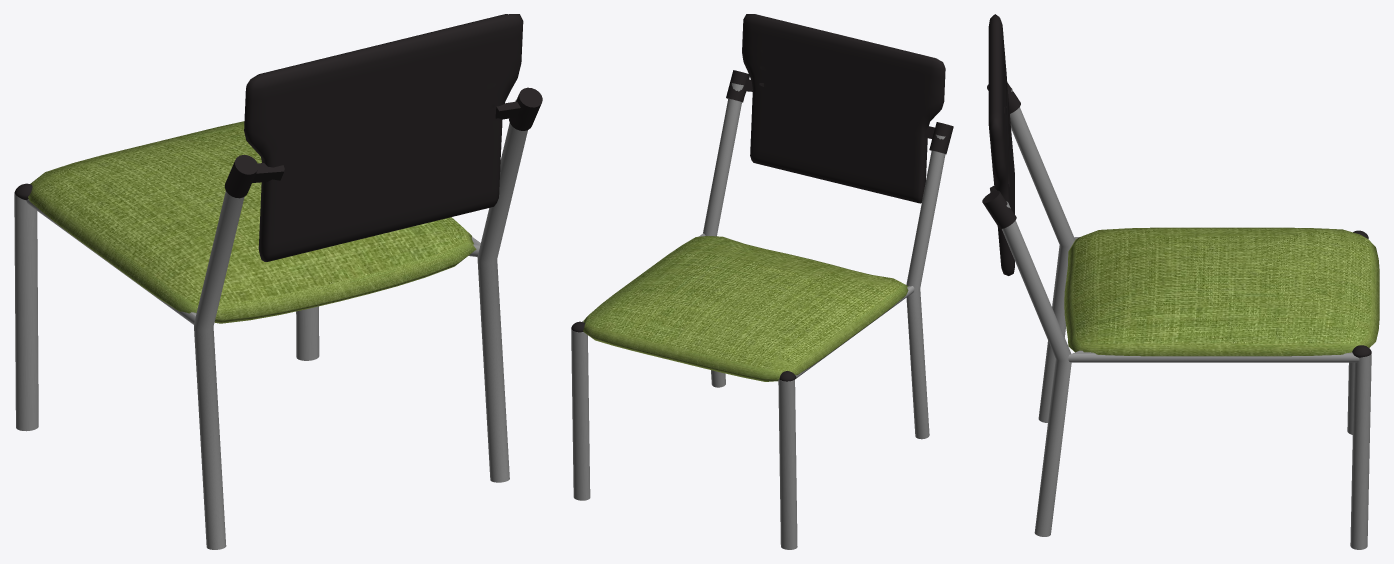
File: another_chair.FBX
The picture shows the model from 3 angles, left to right: view 1: azimuth 30°, elevation 25°; view 2: azimuth 150°, elevation 25°; view 3: azimuth 270°, elevation 25°; orthographic projection. The views are drawn at different scales.
Parts seen in each view (by area): view 1: Box002, Box001, Line002, Line003, Line005, Cylinder001, Cylinder002, Line004; view 2: Box001, Box002, Line002, Line005, Line004, Line003, Cylinder001, Cylinder002; view 3: Box001, Line003, Box002, Line002, Line004, Line001, Cylinder002.
Part boxes in pixels (x1,y1,x2,y2): Box002: (244, 14, 523, 261); Box001: (28, 121, 476, 323); Line002: (194, 168, 244, 549); Line003: (477, 99, 527, 482); Line005: (14, 192, 38, 431); Cylinder001: (224, 155, 284, 198); Cylinder002: (495, 87, 542, 130); Line004: (296, 306, 319, 360); Box001: (583, 236, 908, 381); Box002: (742, 14, 945, 203); Line002: (906, 134, 945, 439); Line005: (778, 379, 797, 549); Line004: (571, 329, 590, 500); Line003: (703, 83, 743, 387); Cylinder001: (924, 122, 953, 154); Cylinder002: (726, 70, 763, 102); Box001: (1064, 227, 1379, 356); Line003: (1002, 201, 1071, 536); Box002: (988, 14, 1014, 275); Line002: (1010, 88, 1075, 422); Line004: (1350, 354, 1371, 549); Line001: (1068, 237, 1359, 362); Cylinder002: (982, 186, 1016, 228).
Bounding box in the file's own units: 20.94 × 33.29 × 28.4.
